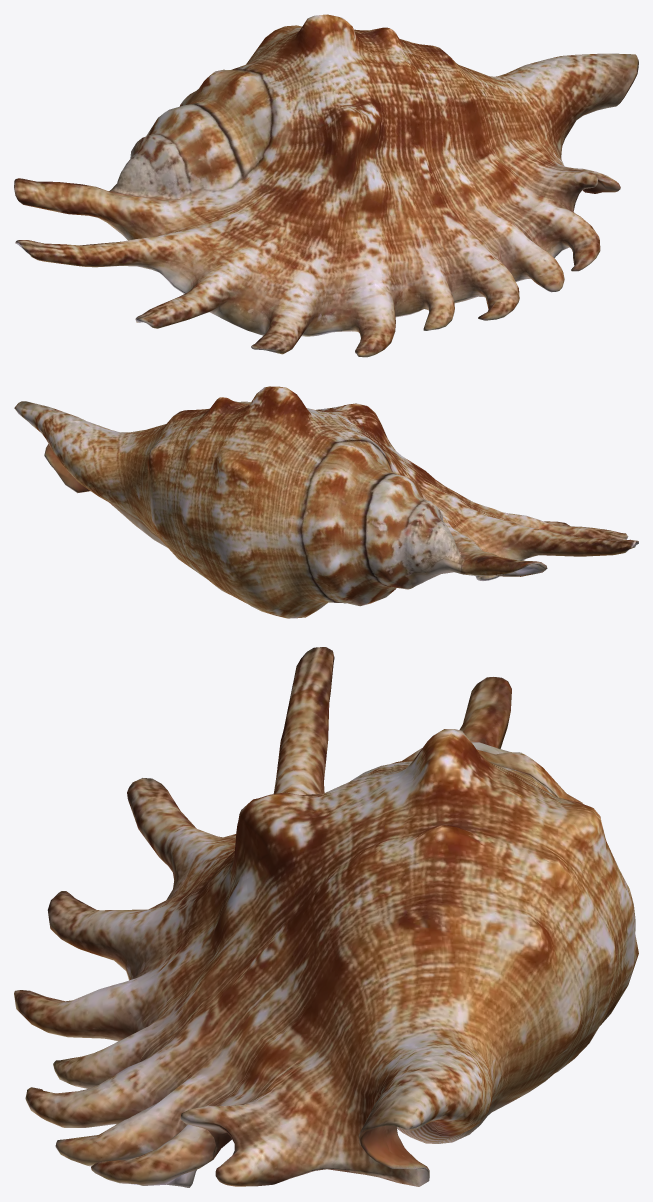
The model's file is lambis_shell.glb.
3 renders of one model, top to bottom at view 1: azimuth 30°, elevation 25°; view 2: azimuth 150°, elevation 25°; view 3: azimuth 270°, elevation 25°, orthographic. The views are drawn at different scales.
Visible parts, largest first — view 1: lambis_shell; view 2: lambis_shell; view 3: lambis_shell.
Part boxes in pixels (x1=…): lambis_shell: x1=14, y1=14, x2=638, y2=357; lambis_shell: x1=14, y1=386, x2=638, y2=618; lambis_shell: x1=14, y1=647, x2=638, y2=1187.
Size of the model in its own units: 0.1395 by 0.0465 by 0.0744.
1 material, 1 textured.
